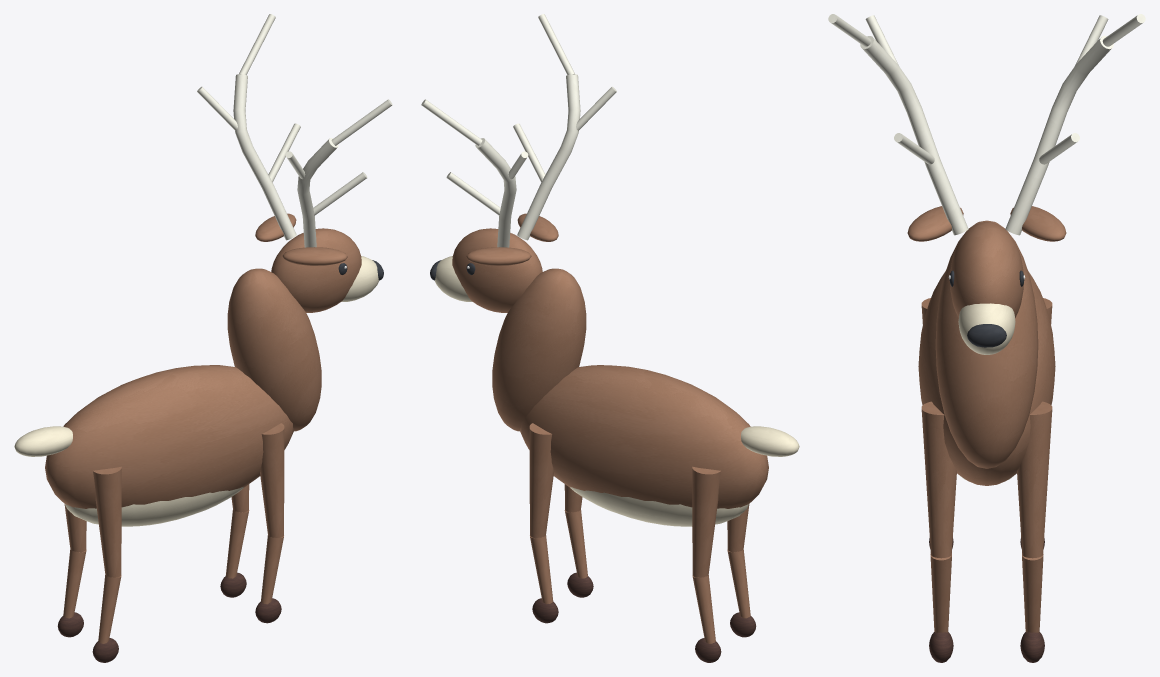
File: deer.glb
3 views of the same model, side by side, from view 1: azimuth 30°, elevation 25°; view 2: azimuth 150°, elevation 25°; view 3: azimuth 270°, elevation 25° (orthographic). The views are drawn at different scales.
Visible parts, largest first — view 1: deer; view 2: deer; view 3: deer.
Boxes of the visible parts, <box> form: deer: <box>14,14,392,662</box>; deer: <box>421,14,799,662</box>; deer: <box>828,14,1145,662</box>.
Bounding box in the file's own units: 1.93 × 2.7 × 1.11.
Materials: 1 (1 with a texture image).
